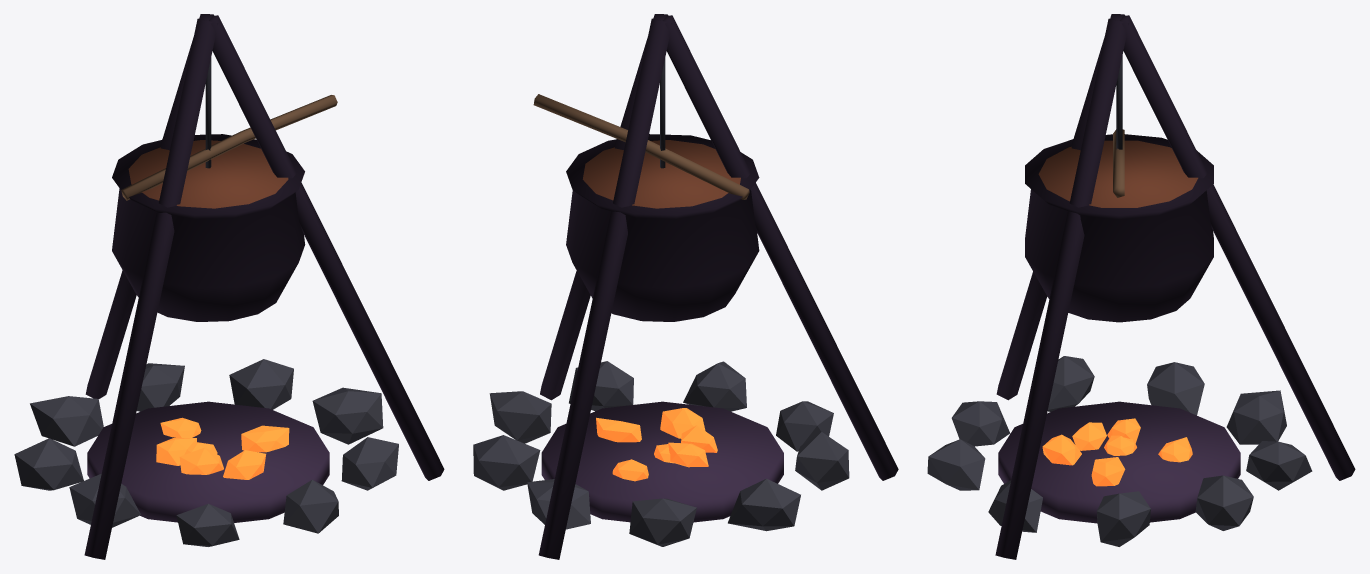
Rendered from cookpot.glb.
3 views of the same model, side by side, from view 1: azimuth 30°, elevation 25°; view 2: azimuth 150°, elevation 25°; view 3: azimuth 270°, elevation 25° (orthographic).
Parts seen in each view (by area): view 1: cookpot; view 2: cookpot; view 3: cookpot.
Part boxes in pixels (box(x1,y1,x2,y2)): cookpot: box(14, 14, 444, 559); cookpot: box(473, 14, 898, 559); cookpot: box(927, 14, 1355, 559).
Bounding box in the file's own units: 0.5098 × 0.6311 × 0.5298.
